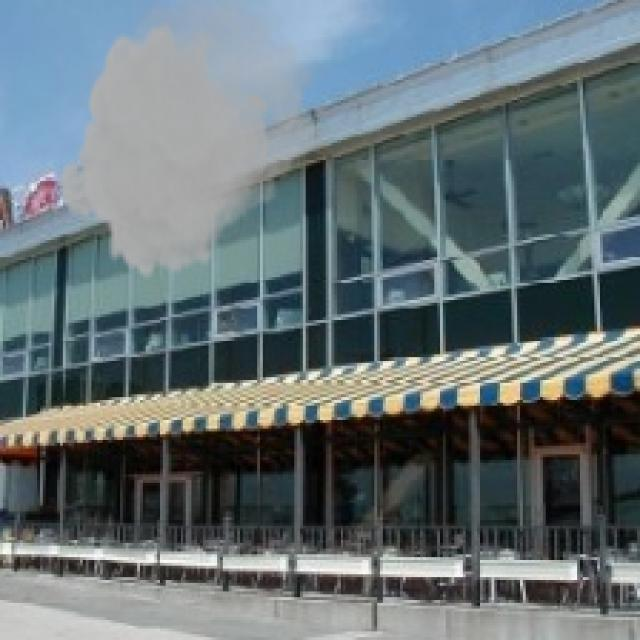Smoke: (57, 0, 326, 283)
